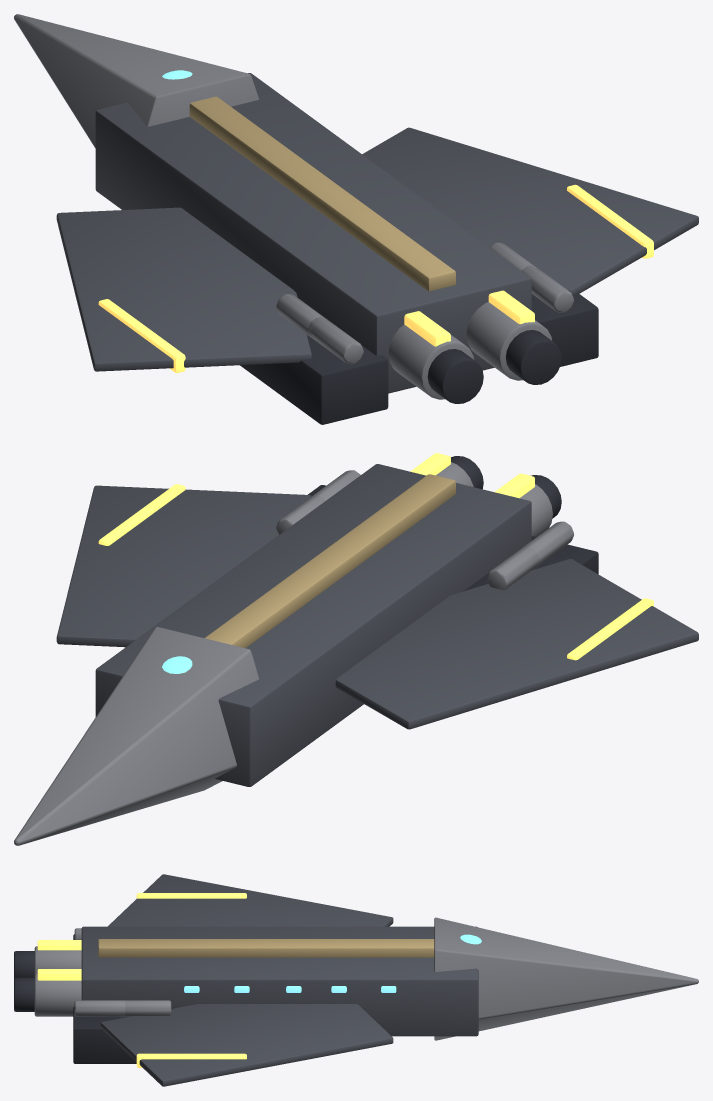
File: raider.glb
The picture shows the model from 3 angles, top to bottom: view 1: azimuth 30°, elevation 25°; view 2: azimuth 150°, elevation 25°; view 3: azimuth 270°, elevation 25°; orthographic projection. The views are drawn at different scales.
Parts seen in each view (by area): view 1: raider; view 2: raider; view 3: raider.
Boxes of the visible parts, x1,y1,x2,y2 form: raider: [14, 14, 698, 424]; raider: [14, 453, 698, 845]; raider: [14, 874, 698, 1086].
Size of the model in its own units: 8.9 by 2.15 by 12.43.
